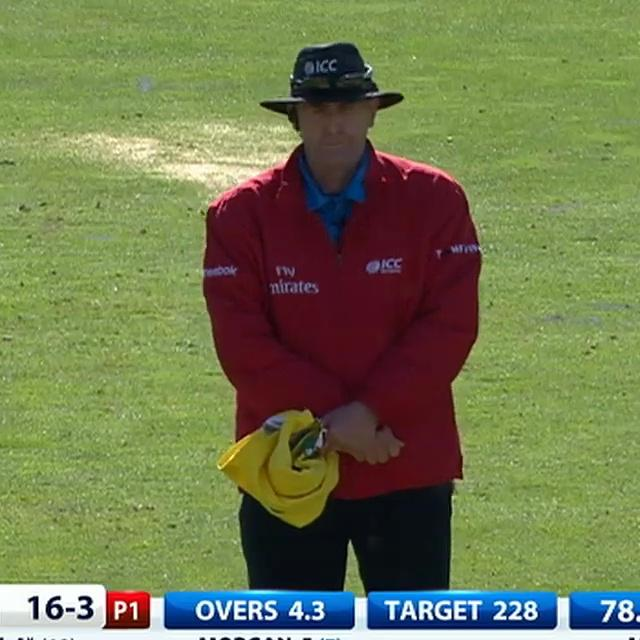umpire: (174, 21, 514, 596)
